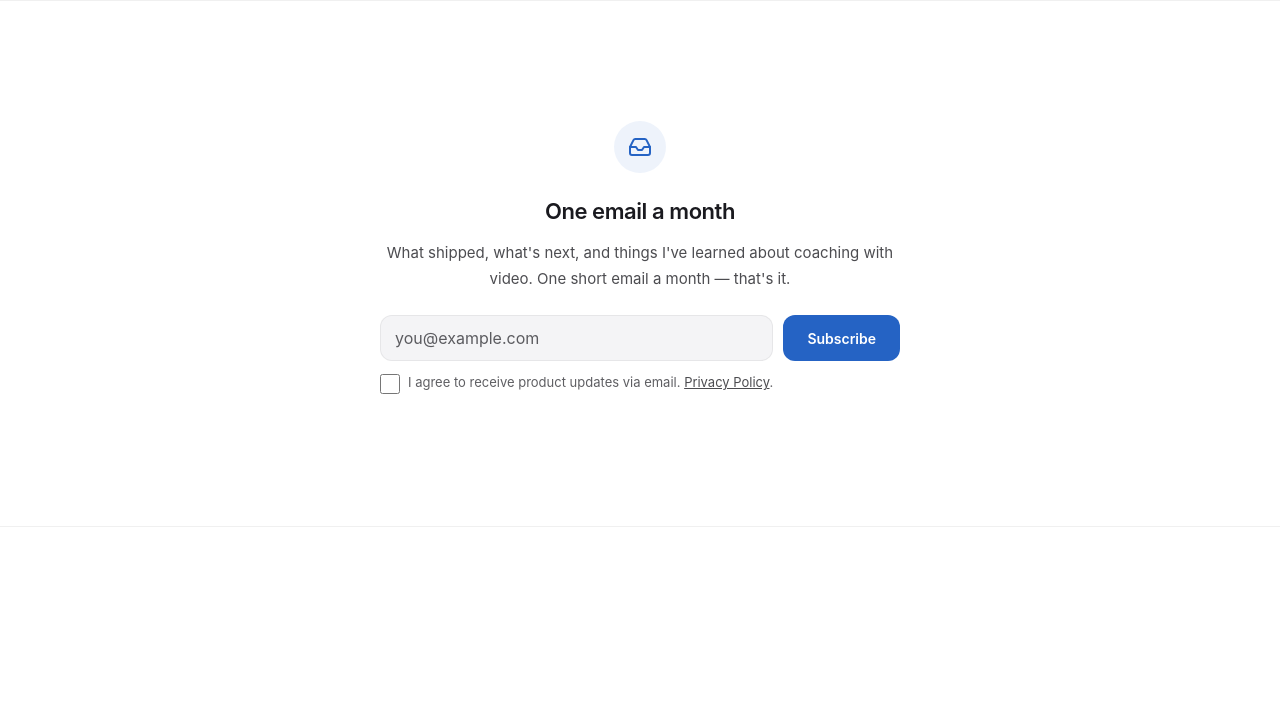
Test: <Newsletter /> error handling › clears the error once the user starts editing the email field again
Type "user@example.com" into the field named "email address" at (577, 338), box left=380, top=315, right=773, bottom=361
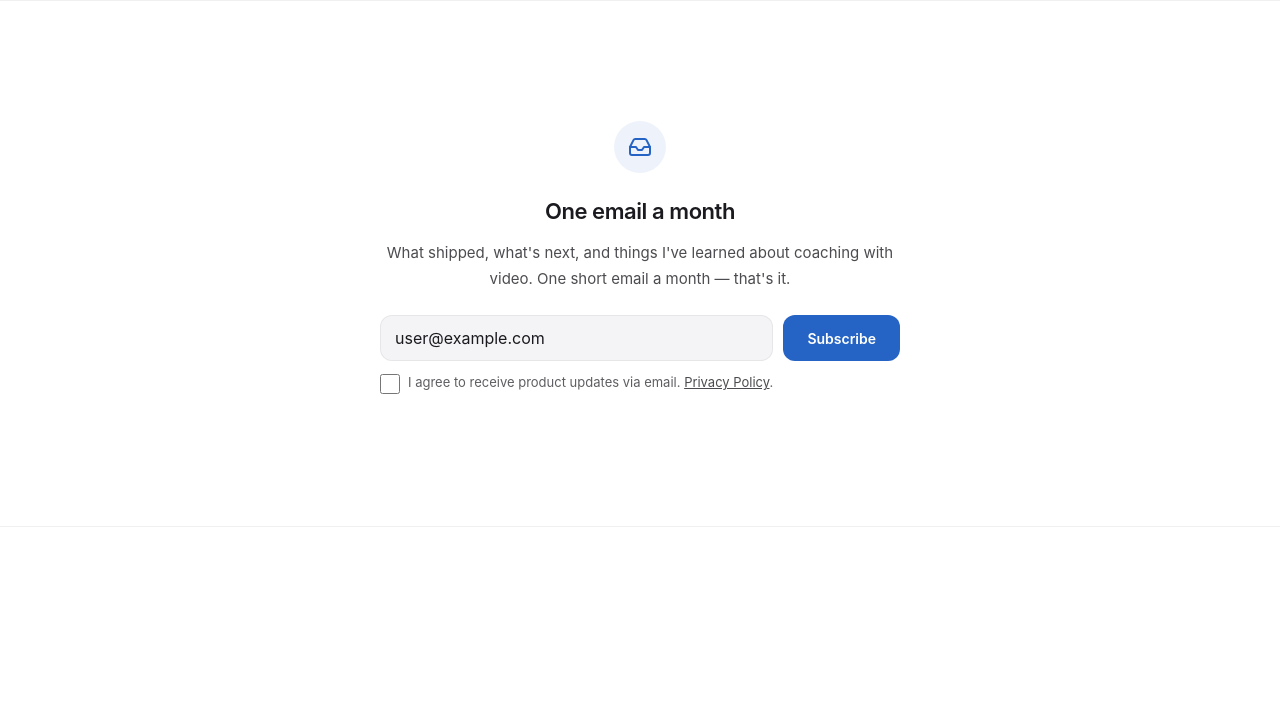
Click the checkbox at (390, 384), box left=380, top=374, right=400, bottom=394
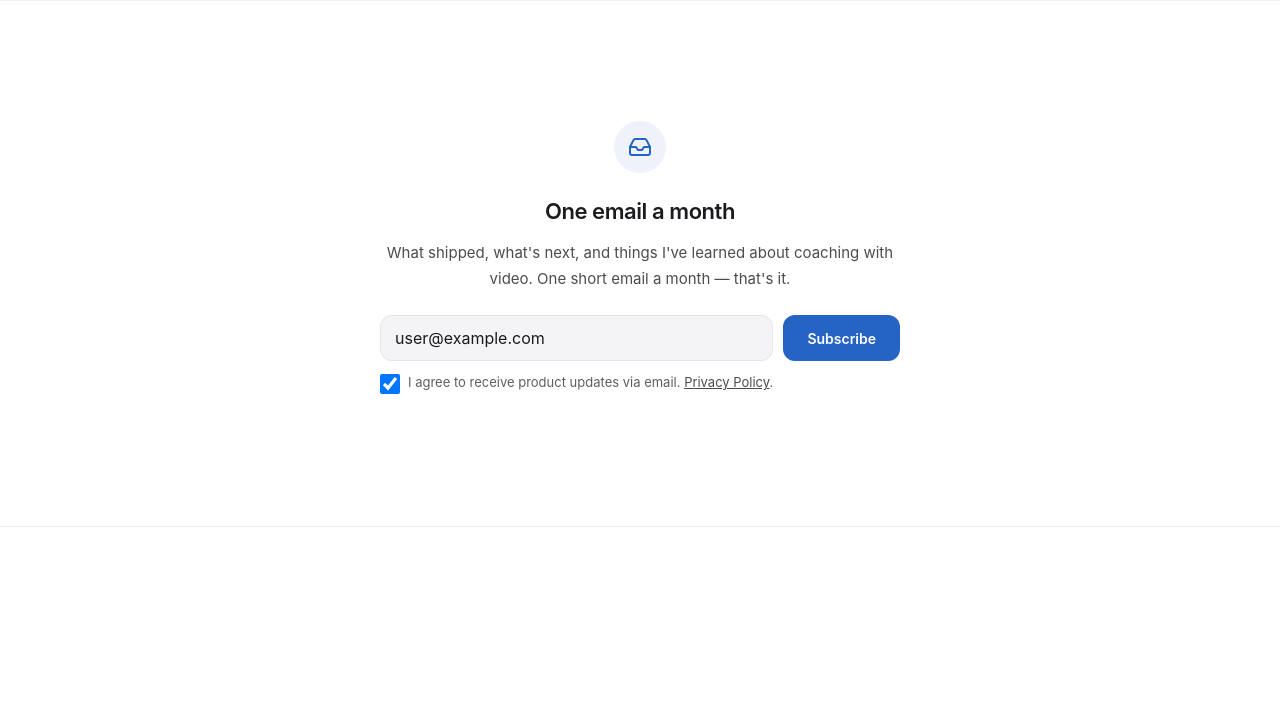
Submit the form named "email address", box left=380, top=315, right=900, bottom=394
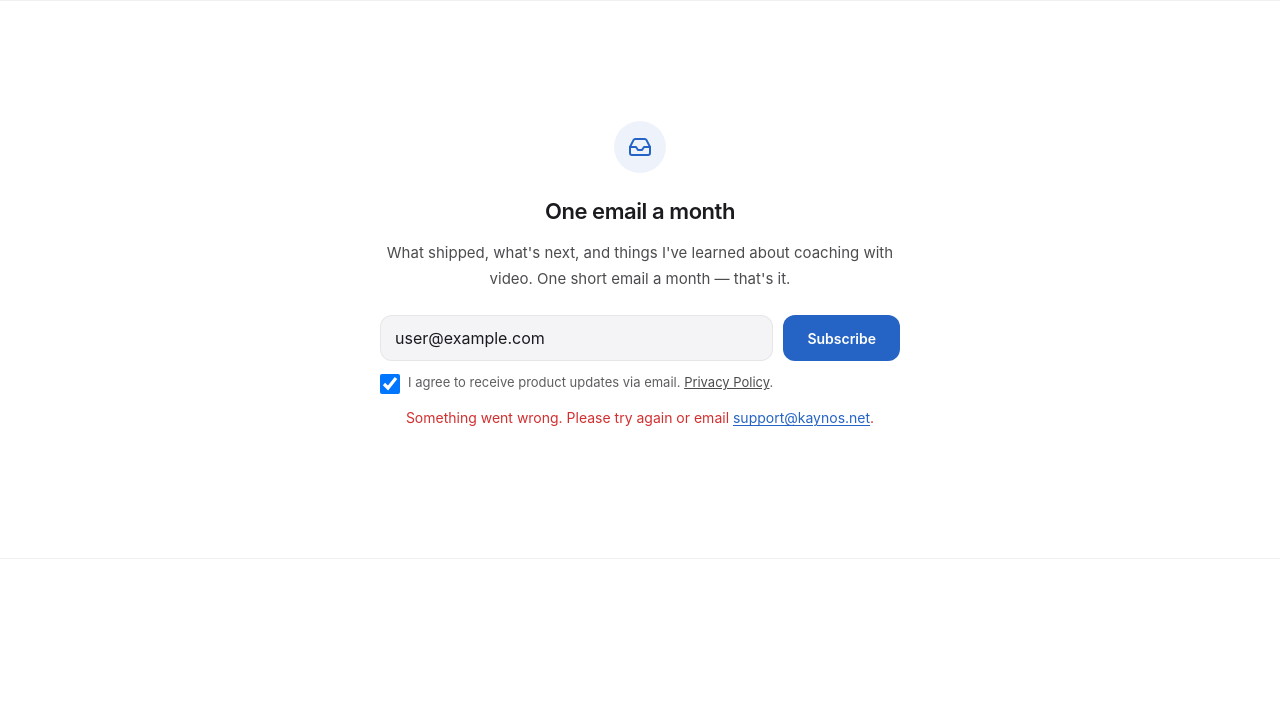
Check: the text "Something went wrong. Please try again or email support@kaynos.net ." is shown, box left=380, top=406, right=900, bottom=430
Replace the text in the field named "email address" with "user2@example.com" at (577, 338), box left=380, top=315, right=773, bottom=361
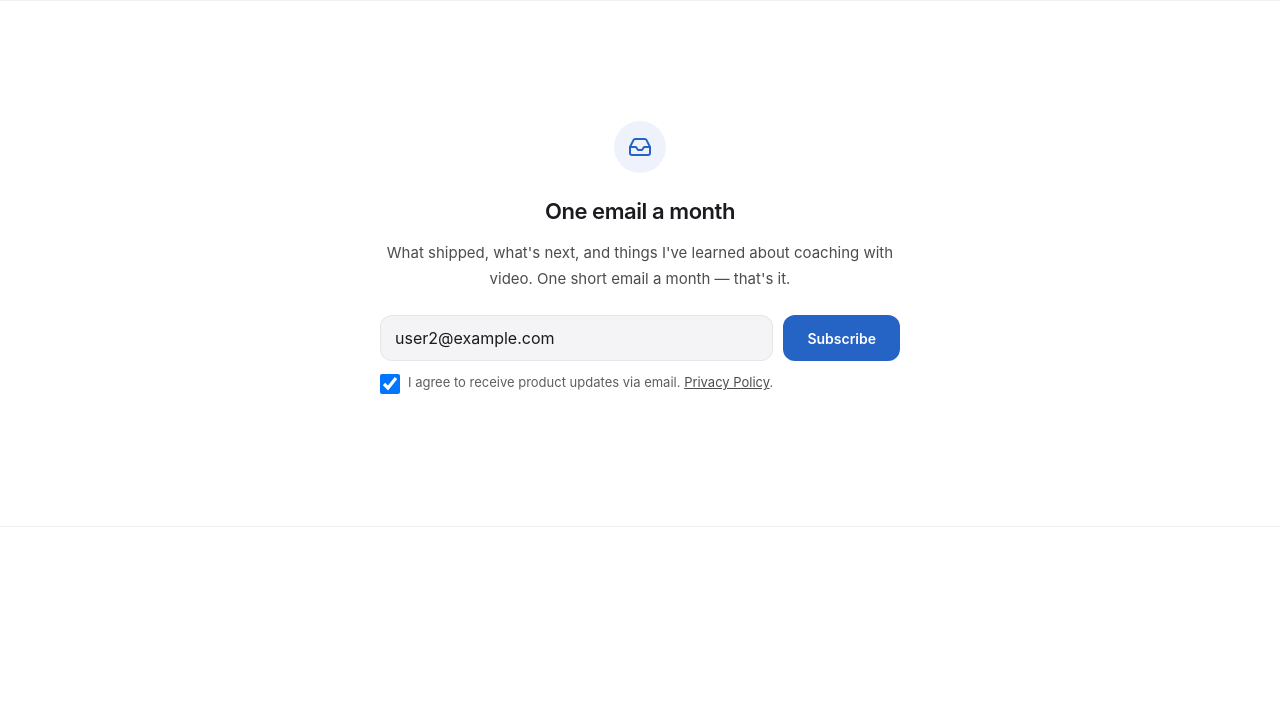
Check: the text "Something went wrong" is gone
